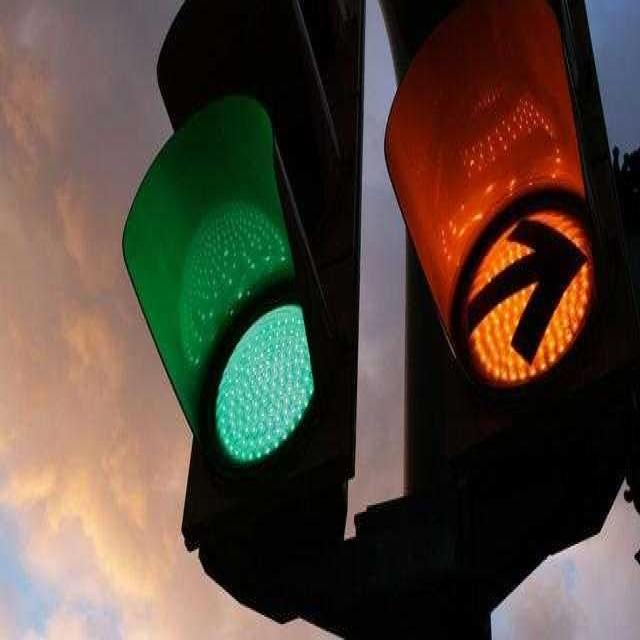Traffic Light -Green-: (125, 0, 358, 585)
